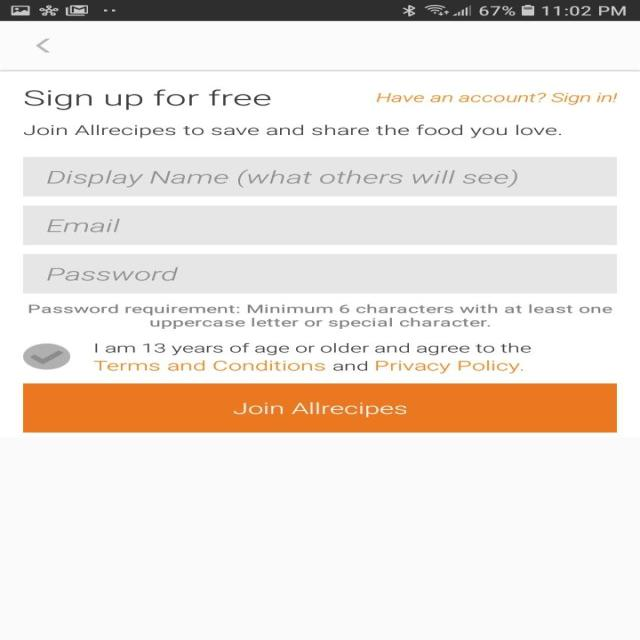EditText: (23, 157, 616, 197), (23, 205, 616, 245), (23, 254, 616, 294)
Icon: (36, 39, 50, 53)
Text: (29, 304, 612, 329), (92, 342, 530, 373), (46, 168, 518, 188), (23, 124, 561, 138), (24, 89, 271, 110), (376, 92, 617, 105), (46, 267, 178, 281), (47, 218, 120, 232)
TextButton: (23, 383, 617, 432)
